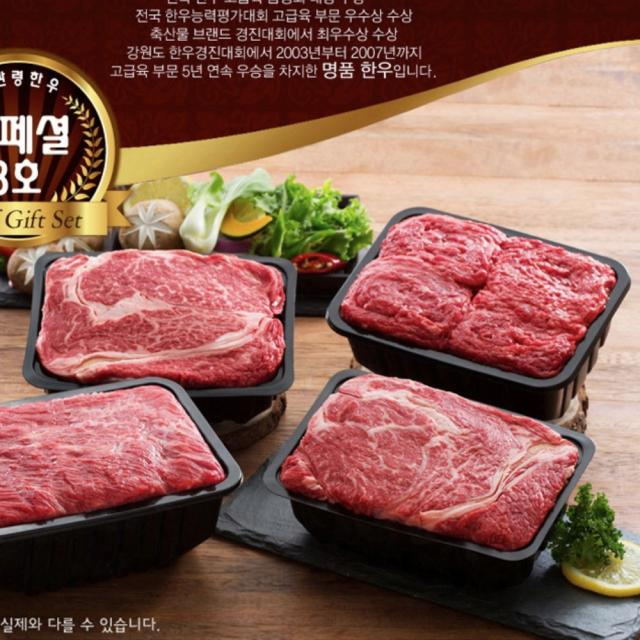beef: (85, 256, 268, 359), (349, 405, 511, 501), (410, 235, 552, 338), (53, 401, 186, 475)
